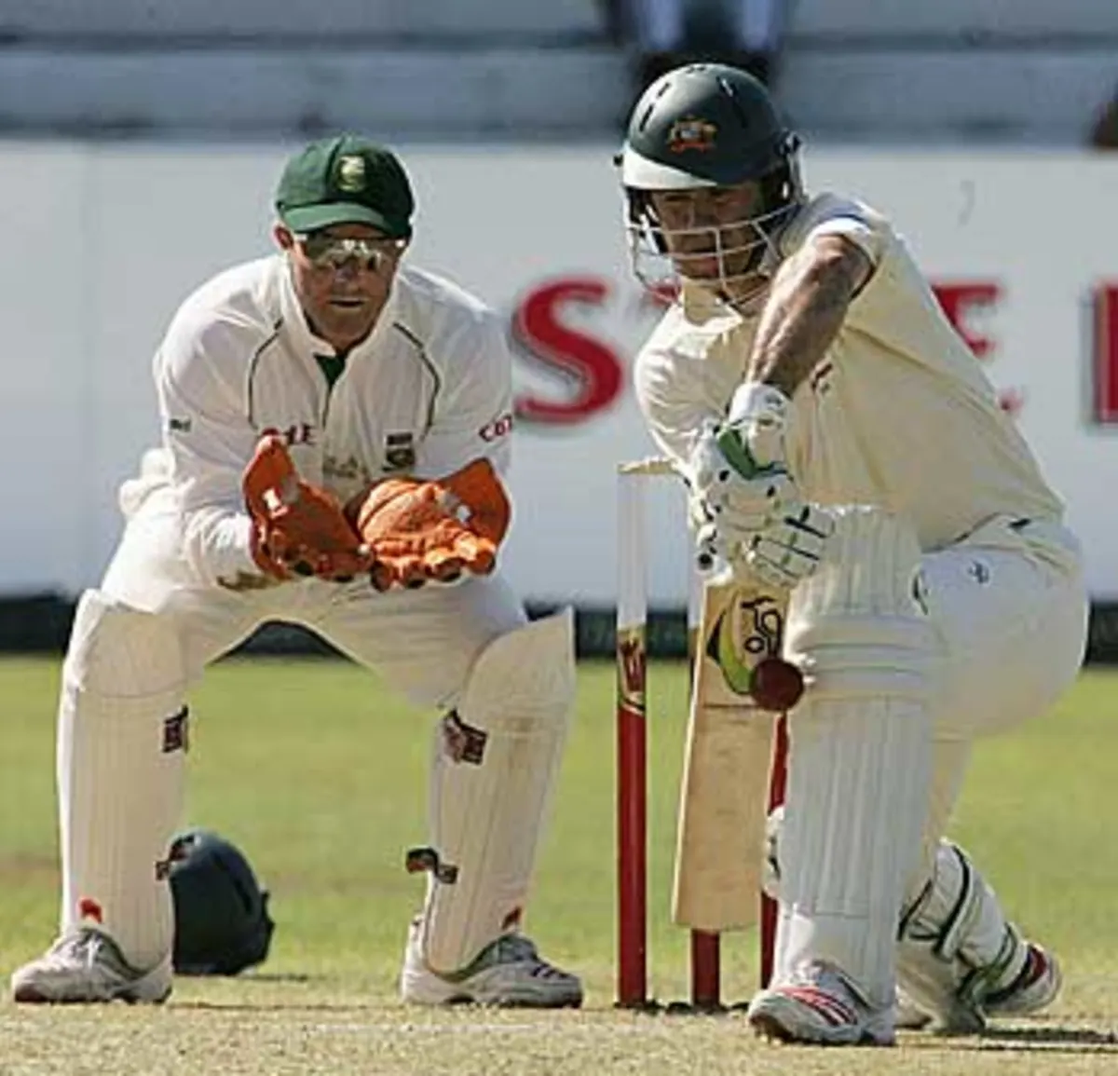Defence: (71, 38, 1108, 1072)
